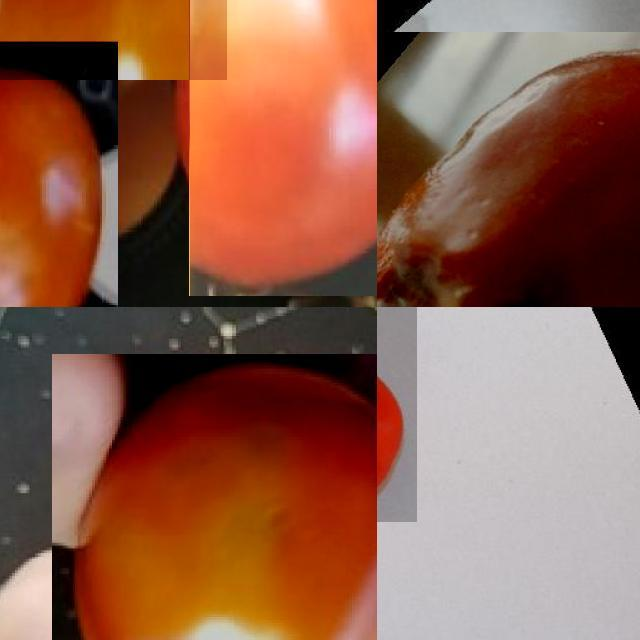Fresh Tomato: (52, 354, 377, 640), (189, 0, 377, 296), (0, 41, 117, 307), (0, 0, 227, 79)
Rotten Tomato: (377, 31, 640, 307)
